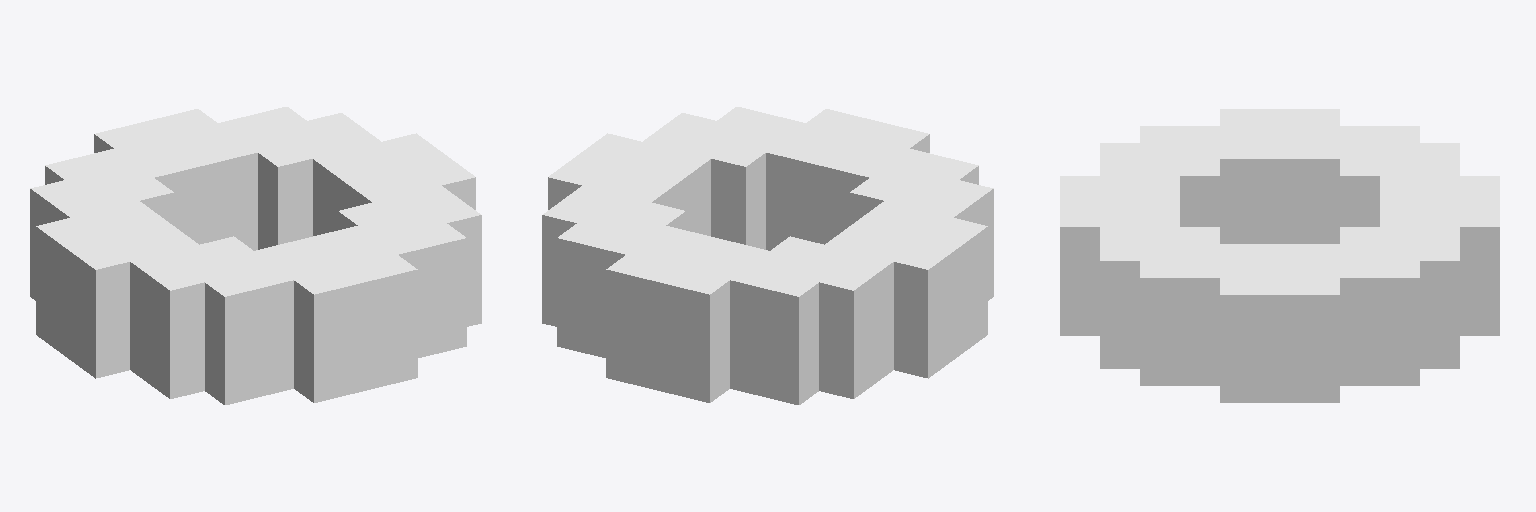
File: ducttape.obj
3 views of the same model, side by side, from view 1: azimuth 30°, elevation 25°; view 2: azimuth 150°, elevation 25°; view 3: azimuth 270°, elevation 25° (orthographic).
Parts seen in each view (by area): view 1: ObjObject; view 2: ObjObject; view 3: ObjObject.
Boxes of the visible parts, <box> form: ObjObject: <box>30,107,481,404</box>; ObjObject: <box>542,107,993,404</box>; ObjObject: <box>1060,109,1499,402</box>.
Size of the model in its own units: 1.1 by 0.3 by 1.1.